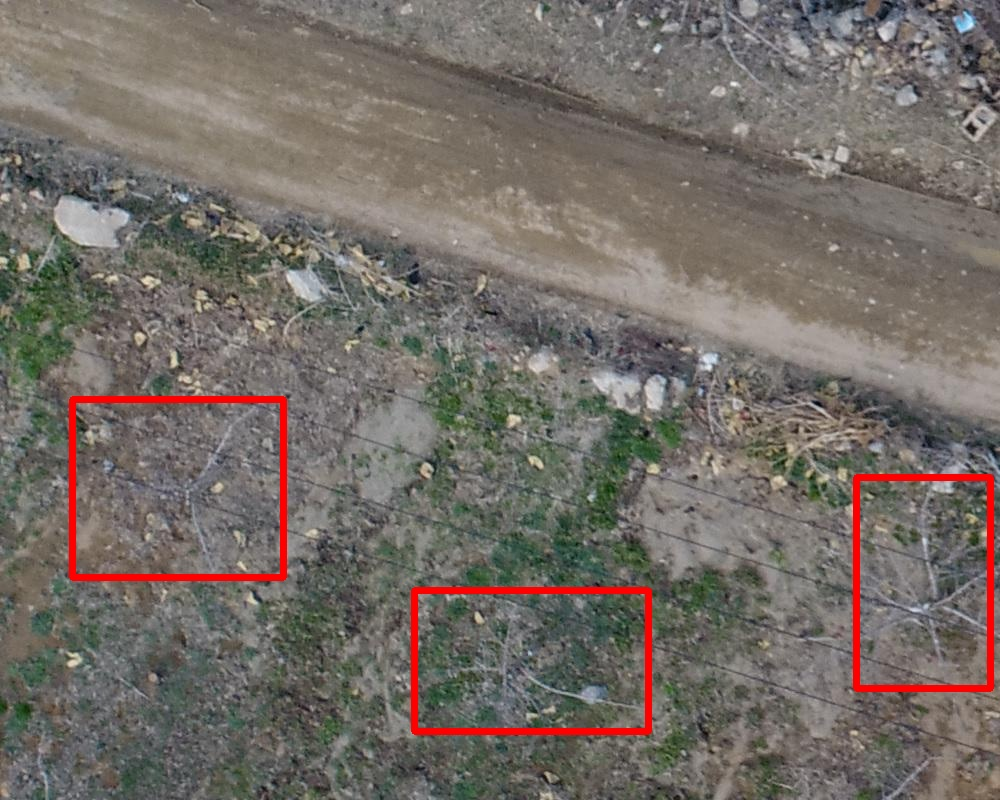apple: (72, 399, 283, 577), (414, 590, 648, 731), (856, 477, 990, 688)
